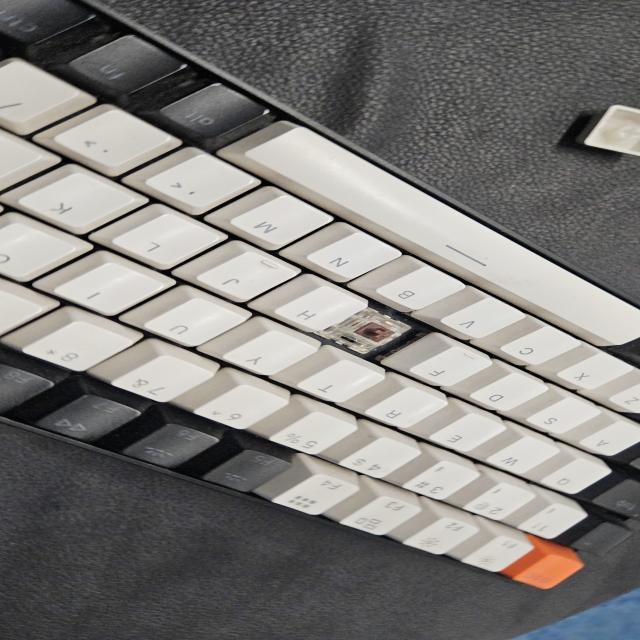C: (354, 316, 400, 351)
